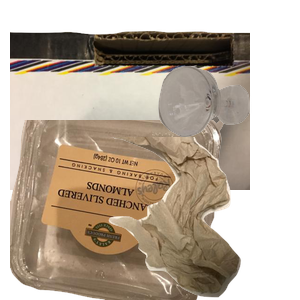cardboard: (10, 29, 250, 209)
glass: (156, 64, 300, 194)
plastic: (10, 120, 227, 300)
trash: (103, 137, 300, 300)
